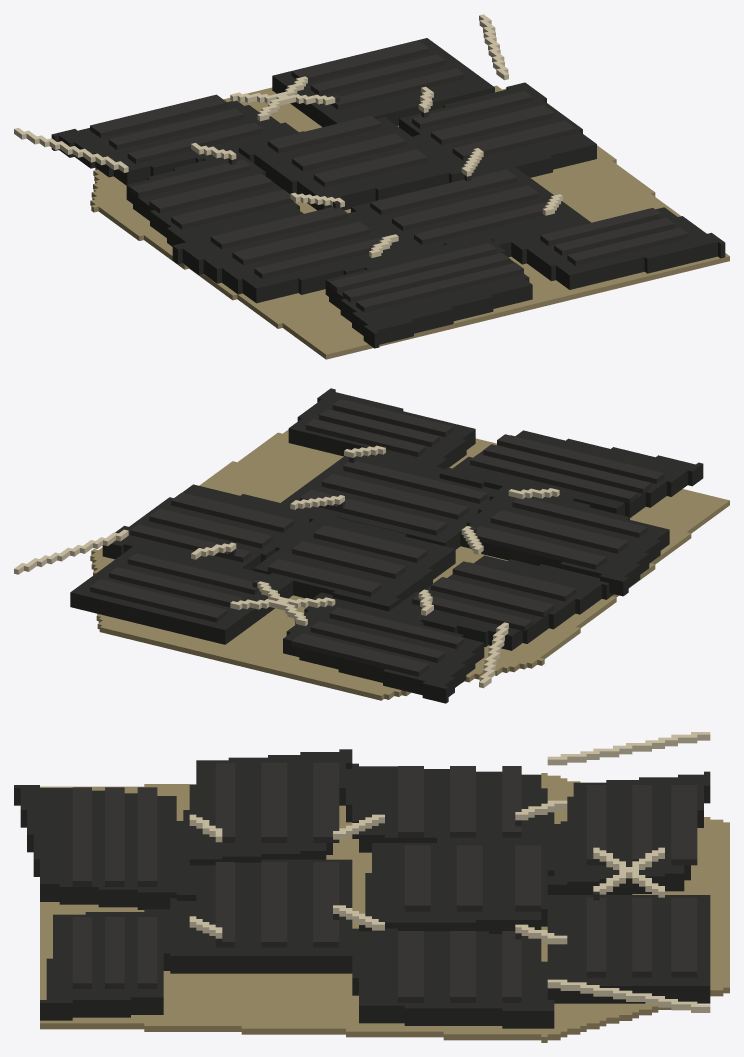
The model's file is cuirass_tire.glb.
3 renders of one model, top to bottom at view 1: azimuth 30°, elevation 25°; view 2: azimuth 150°, elevation 25°; view 3: azimuth 270°, elevation 25°, orthographic. The views are drawn at different scales.
Parts seen in each view (by area): view 1: cuirass_tire:compound; view 2: cuirass_tire:compound; view 3: cuirass_tire:compound.
Part boxes in pixels (x1,y1,x2,y2): cuirass_tire:compound: [14, 14, 729, 359]; cuirass_tire:compound: [14, 388, 729, 703]; cuirass_tire:compound: [14, 732, 729, 1042].
Size of the model in its own units: 0.4 by 0.028 by 0.44.
